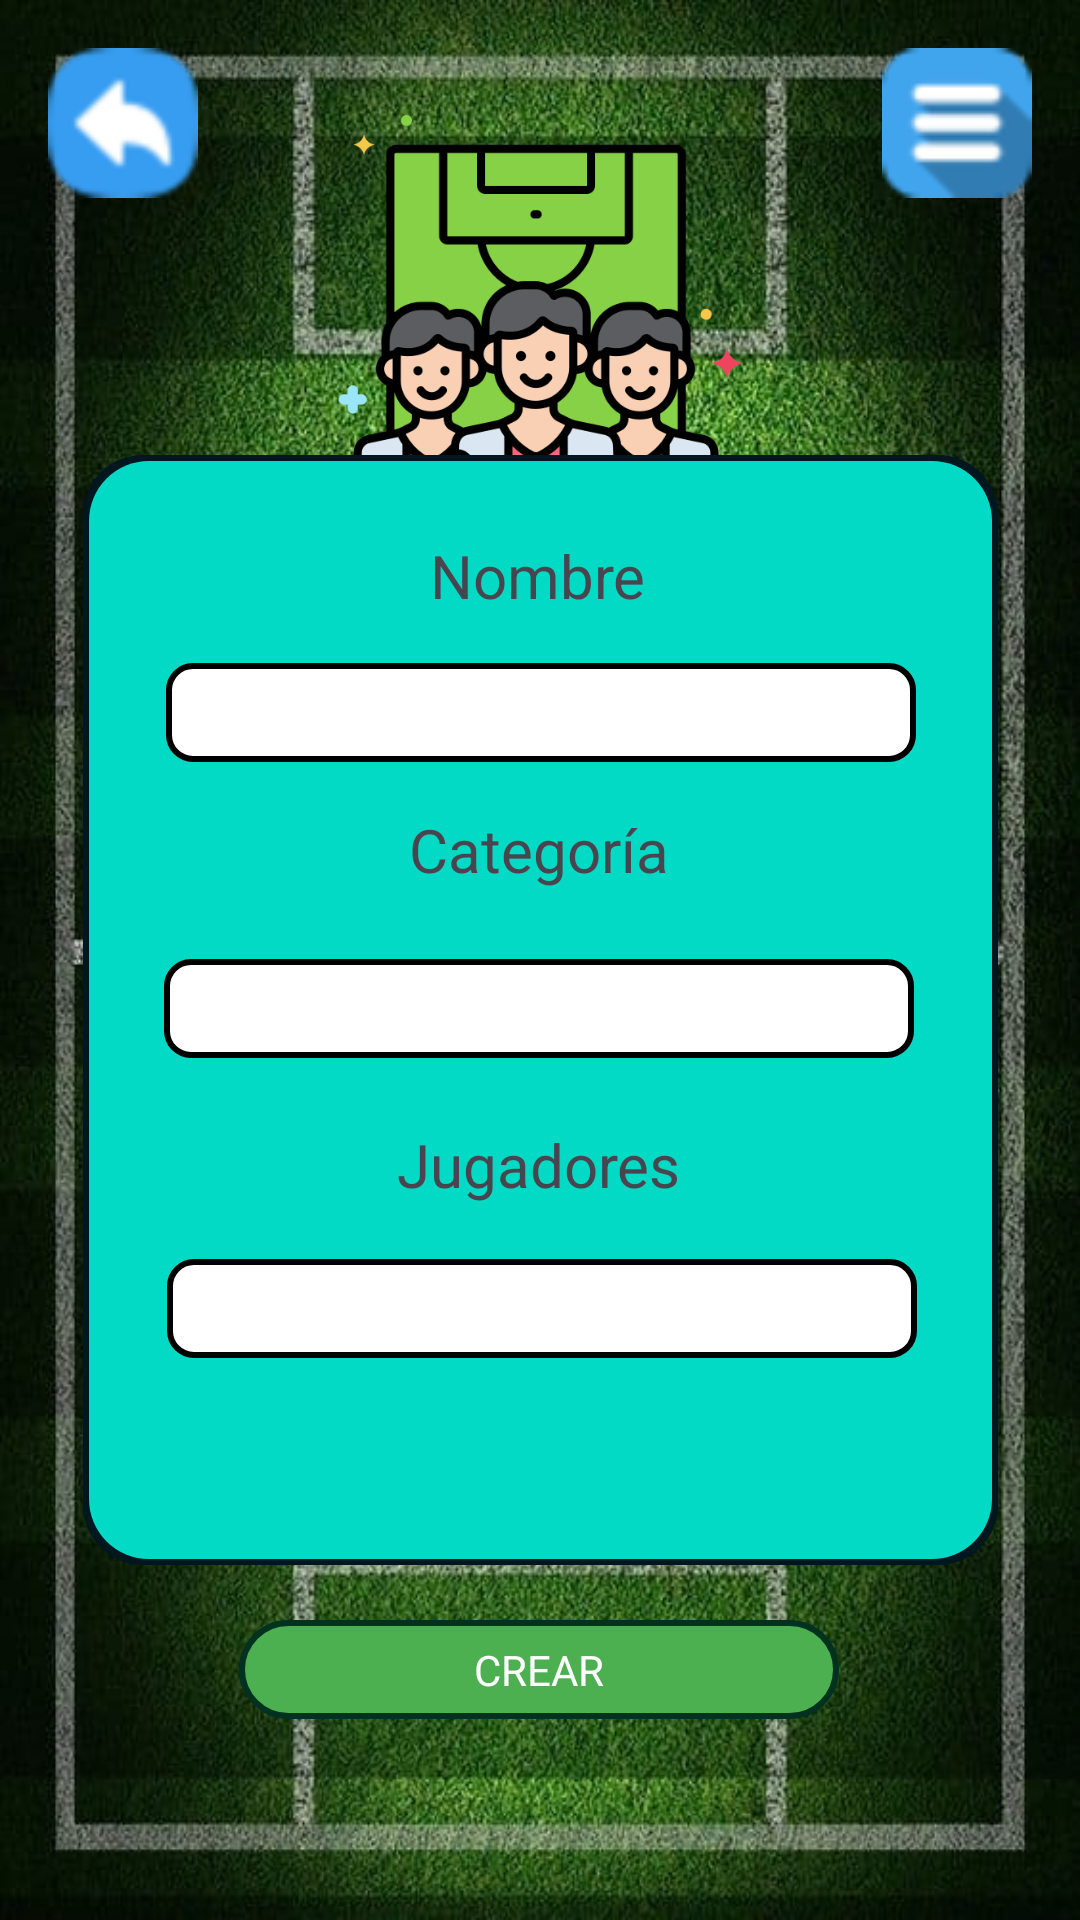

Icon click points for this 1080x1920 phone screenshot, format (x,y):
atras: (123,123)
burger menu: (957,123)
